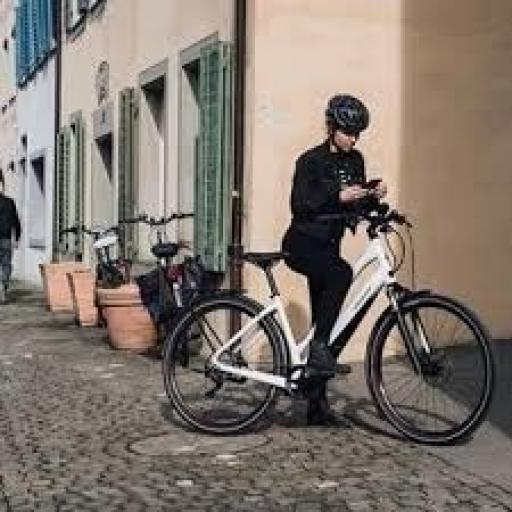cycling: (278, 91, 394, 430), (0, 163, 27, 309)
